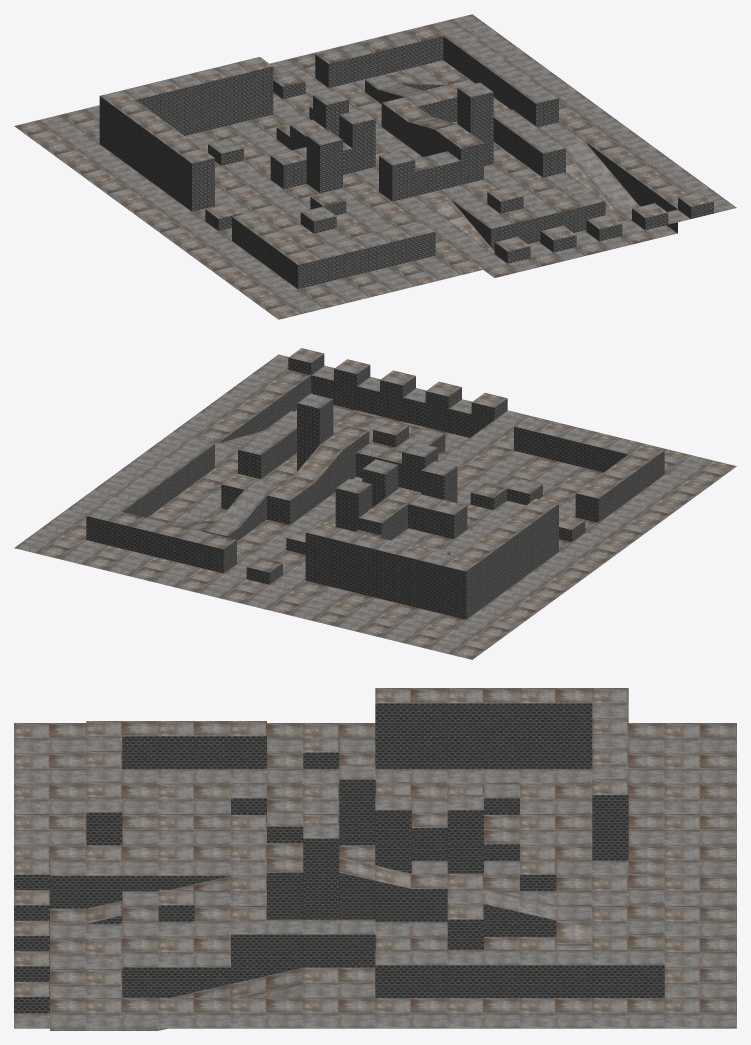
File: level (8).gltf
3 renders of one model, top to bottom at view 1: azimuth 30°, elevation 25°; view 2: azimuth 150°, elevation 25°; view 3: azimuth 270°, elevation 25°, orthographic. The views are drawn at different scales.
Size of what is drawn, in the model's own units: 40 by 8 by 40.
Materials: 2 (2 with a texture image).
